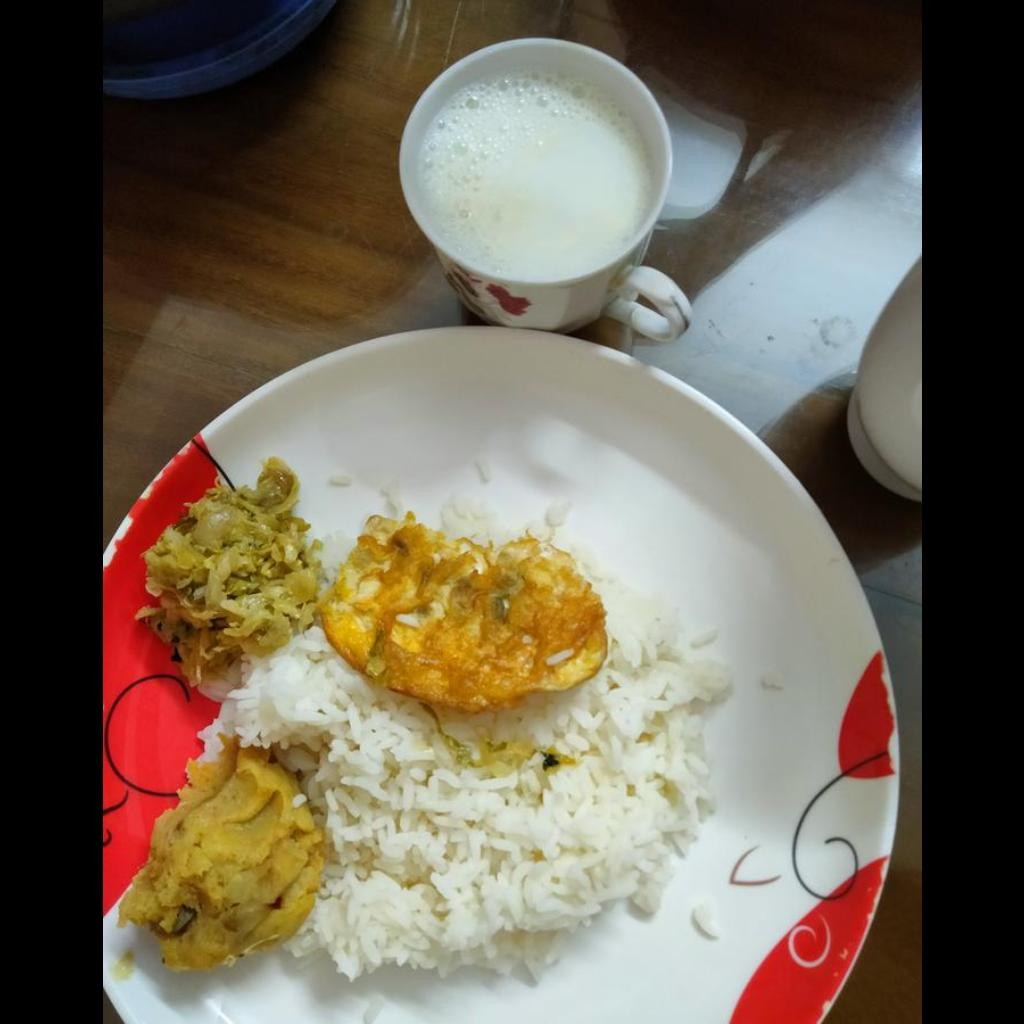egg-poached: (323, 510, 605, 713)
milk: (405, 67, 650, 282)
potato-mashed: (112, 764, 321, 973)
rice: (206, 577, 727, 981)
vaji: (138, 457, 320, 685)
